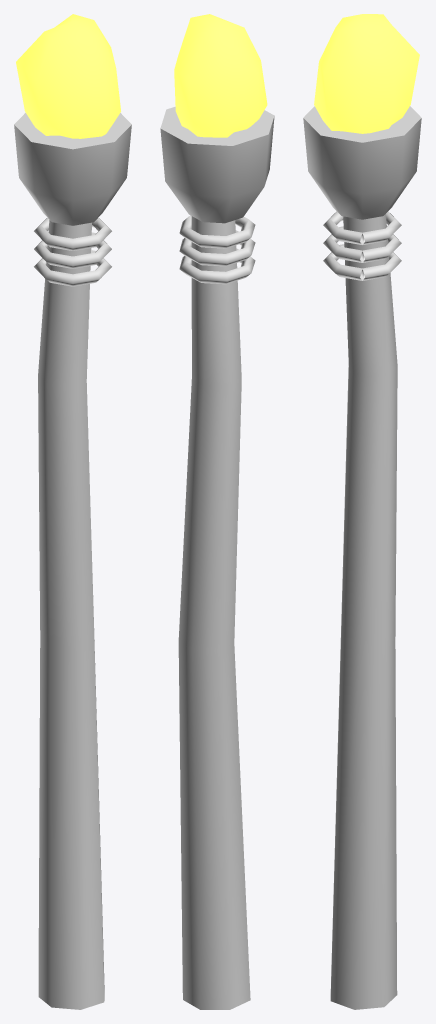
Rendered from TorchPost.fbx.
3 views of the same model, side by side, from view 1: azimuth 90°, elevation 25°; view 2: azimuth 150°, elevation 25°; view 3: azimuth 270°, elevation 25° (orthographic).
Visible parts, largest first — view 1: TorchPost__wood_dark, TorchPost__glow_fire, TorchPost__iron, TorchPost__rope; view 2: TorchPost__wood_dark, TorchPost__glow_fire, TorchPost__iron, TorchPost__rope; view 3: TorchPost__wood_dark, TorchPost__glow_fire, TorchPost__iron, TorchPost__rope.
Part boxes in pixels (bbox=[...]): TorchPost__wood_dark: bbox=[38, 220, 104, 1009]; TorchPost__glow_fire: bbox=[16, 14, 120, 138]; TorchPost__iron: bbox=[14, 113, 131, 225]; TorchPost__rope: bbox=[34, 217, 111, 286]; TorchPost__wood_dark: bbox=[178, 216, 250, 1009]; TorchPost__glow_fire: bbox=[174, 14, 267, 137]; TorchPost__iron: bbox=[160, 106, 274, 223]; TorchPost__rope: bbox=[179, 215, 255, 284]; TorchPost__wood_dark: bbox=[330, 214, 397, 1009]; TorchPost__glow_fire: bbox=[314, 14, 419, 133]; TorchPost__iron: bbox=[303, 106, 421, 219]; TorchPost__rope: bbox=[323, 211, 401, 280].
Size of the model in its own units: 1.2 by 10.97 by 1.2.
